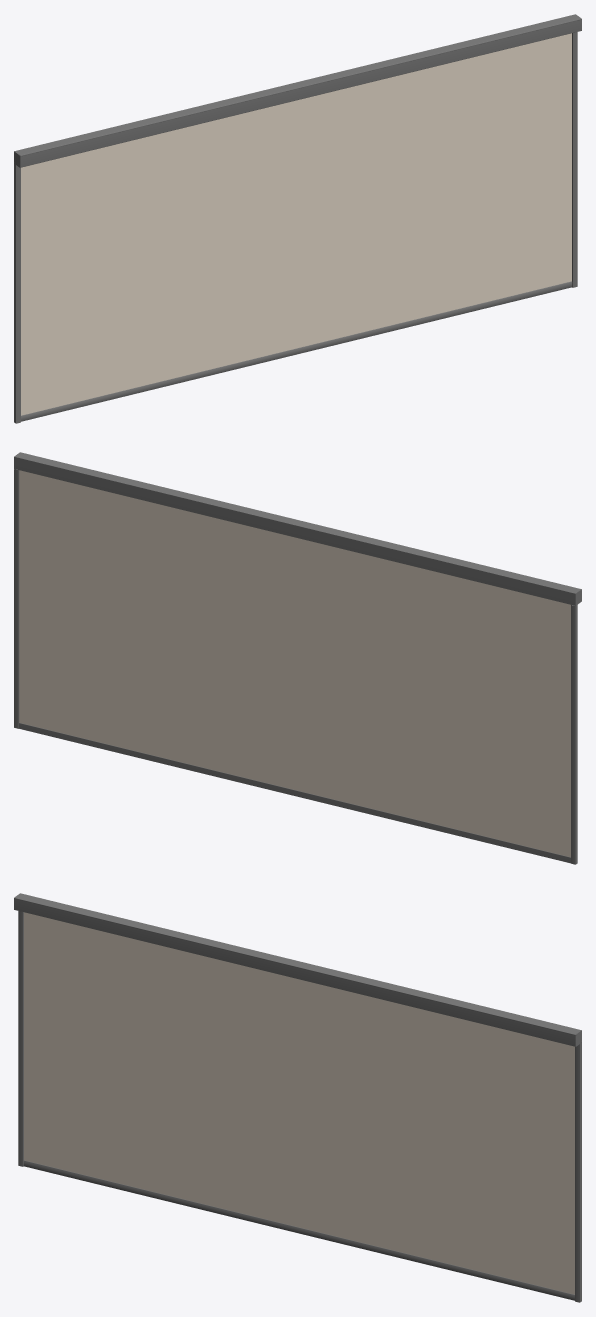
File: Zip 6.glb
The picture shows the model from 3 angles, top to bottom: view 1: azimuth 30°, elevation 25°; view 2: azimuth 150°, elevation 25°; view 3: azimuth 330°, elevation 25°; orthographic projection.
Visible parts, largest first — view 1: 3DGeom-3, 3DGeom-7, 3DGeom-4, 3DGeom-8, 3DGeom-1; view 2: 3DGeom-3, 3DGeom-7, 3DGeom-4, 3DGeom-8, 3DGeom-1; view 3: 3DGeom-3, 3DGeom-7, 3DGeom-4, 3DGeom-1, 3DGeom-8.
Boxes of the visible parts, x1,y1,x2,y2 form: 3DGeom-3: (21, 33, 571, 415); 3DGeom-7: (14, 14, 581, 167); 3DGeom-4: (21, 281, 572, 421); 3DGeom-8: (14, 164, 20, 423); 3DGeom-1: (572, 32, 577, 287); 3DGeom-3: (19, 470, 570, 857); 3DGeom-7: (14, 452, 581, 605); 3DGeom-4: (19, 722, 570, 863); 3DGeom-8: (571, 605, 577, 864); 3DGeom-1: (14, 469, 19, 728); 3DGeom-3: (24, 912, 574, 1294); 3DGeom-7: (14, 893, 581, 1046); 3DGeom-4: (23, 1160, 574, 1300); 3DGeom-1: (575, 1043, 581, 1302); 3DGeom-8: (18, 911, 23, 1166).
Size of the model in its own units: 5.76 by 2.65 by 0.1113.
